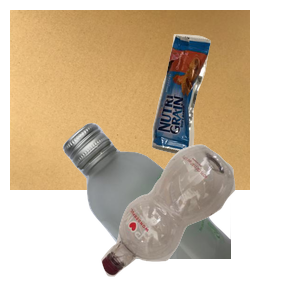cardboard: (10, 10, 250, 190)
glass: (60, 120, 300, 300)
plastic: (99, 142, 300, 300)
trash: (149, 31, 300, 179)
